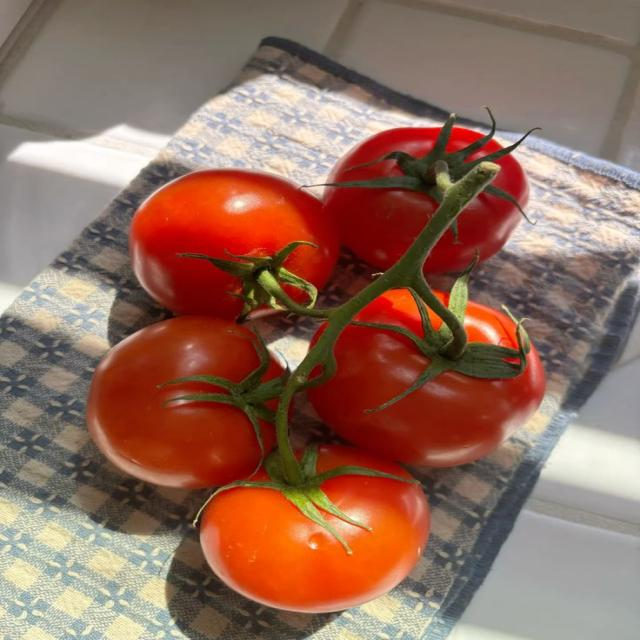tomato: (308, 326, 545, 467), (200, 475, 429, 613), (130, 169, 338, 319), (87, 317, 260, 487), (327, 128, 440, 183)
